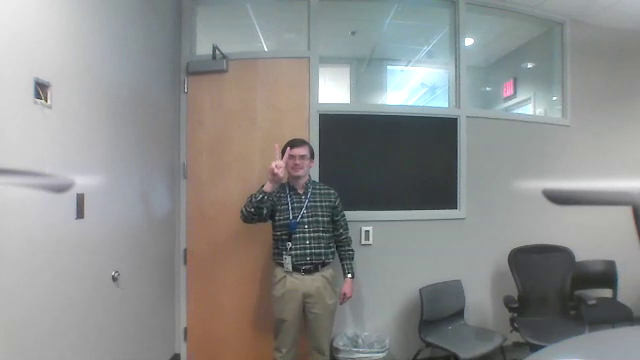peace: (265, 142, 290, 178)
